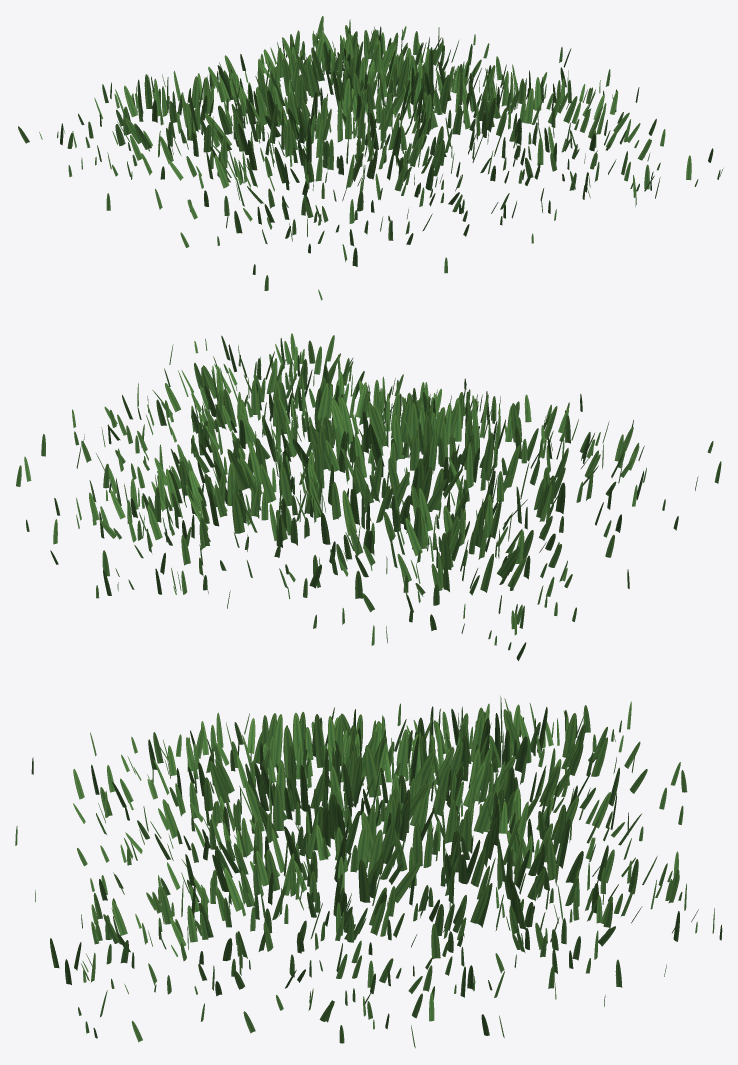
The model's file is grassBlades.fbx.
3 views of the same model, one above another, from view 1: azimuth 30°, elevation 25°; view 2: azimuth 150°, elevation 25°; view 3: azimuth 270°, elevation 25° (orthographic). The views are drawn at different scales.
Visible parts, largest first — view 1: grassPlane.413; view 2: grassPlane.413; view 3: grassPlane.413.
Boxes of the visible parts, left/top/right/bottom form: grassPlane.413: left=18, top=16, right=723, bottom=300; grassPlane.413: left=16, top=333, right=721, bottom=660; grassPlane.413: left=15, top=696, right=722, bottom=1048.
Size of the model in its own units: 192 by 31.81 by 178.
